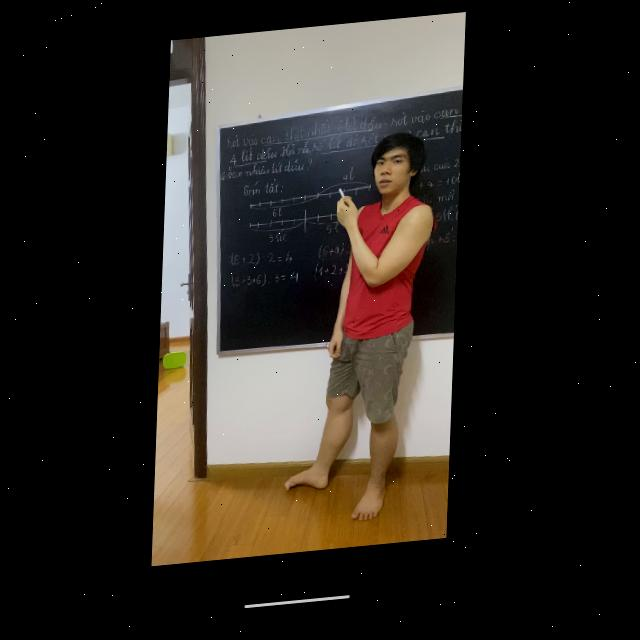cigarette: (339, 195, 348, 206)
